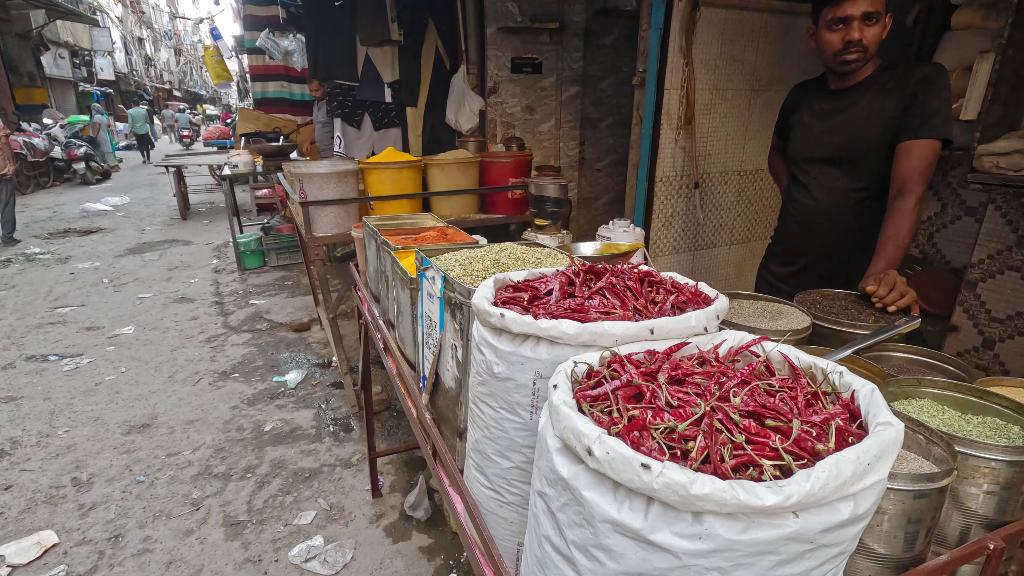garbage: (1, 519, 63, 575), (284, 527, 359, 572), (79, 191, 136, 219), (276, 351, 310, 397), (95, 320, 148, 347), (51, 349, 101, 375)
